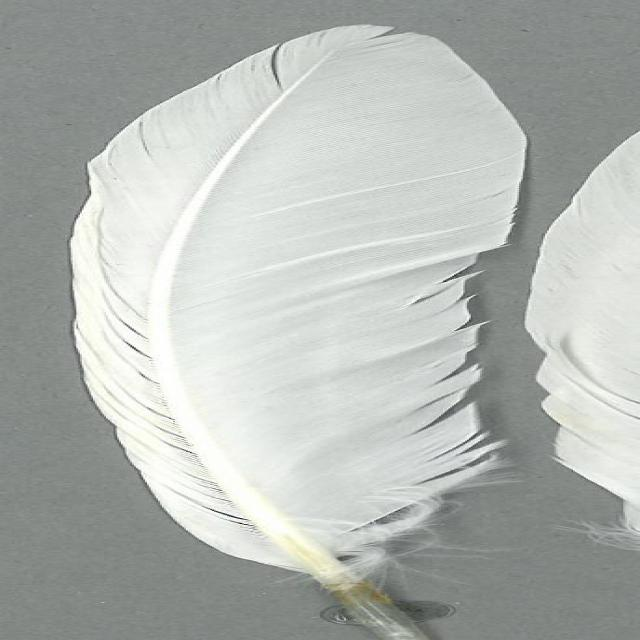feather: (60, 21, 534, 640)
